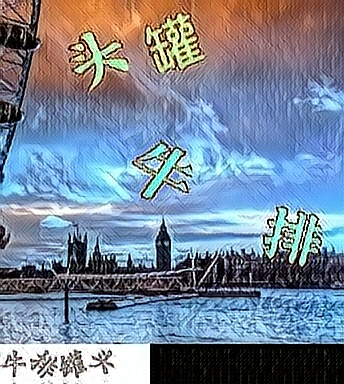B9DE: (144, 12, 207, 78)
C5A3: (129, 135, 192, 201)
C5C5: (262, 200, 325, 266)
CDB7: (68, 26, 131, 92)
